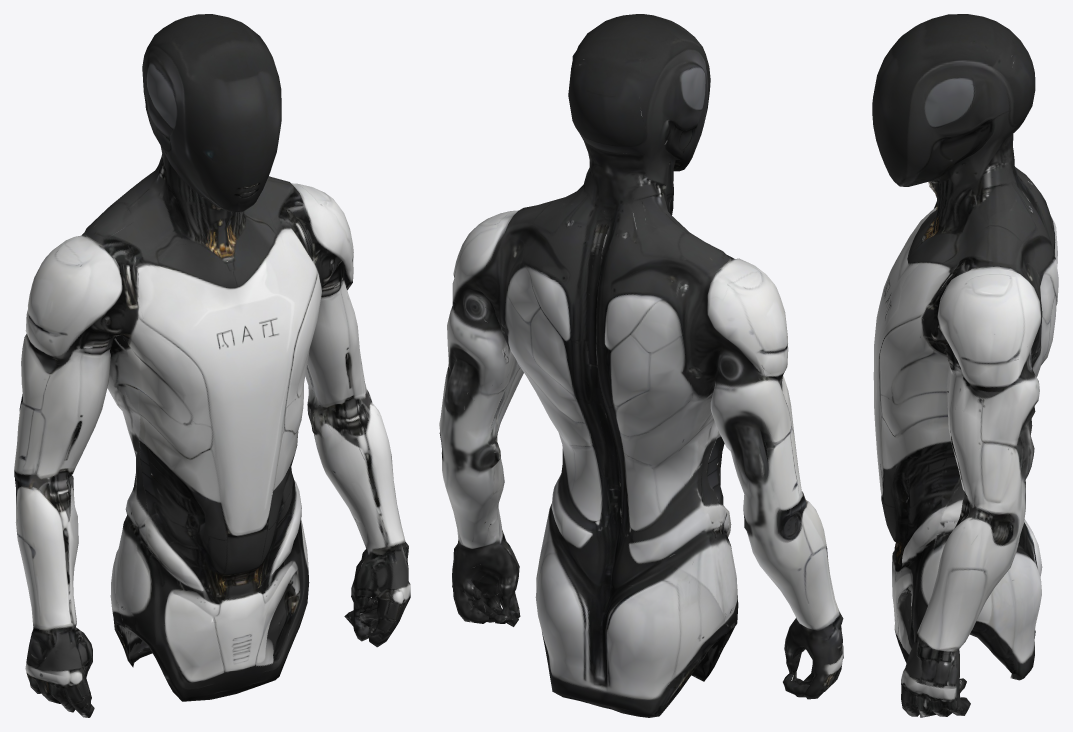
The model's file is Cyber_Sentinel_0514182704_texture.glb.
3 views of the same model, side by side, from view 1: azimuth 30°, elevation 25°; view 2: azimuth 150°, elevation 25°; view 3: azimuth 270°, elevation 25° (orthographic). The views are drawn at different scales.
Bounding box in the file's own units: 1.21 × 2 × 0.5288.
Materials: 1 (1 with a texture image).
